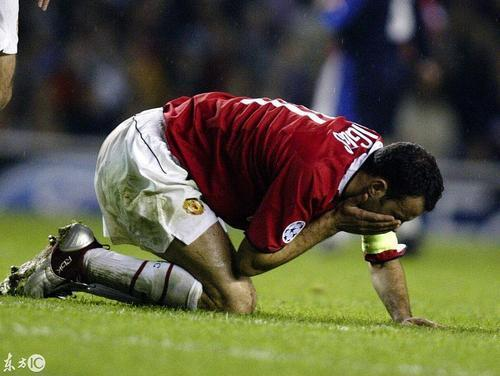Fall-Detected: (0, 79, 452, 324)
